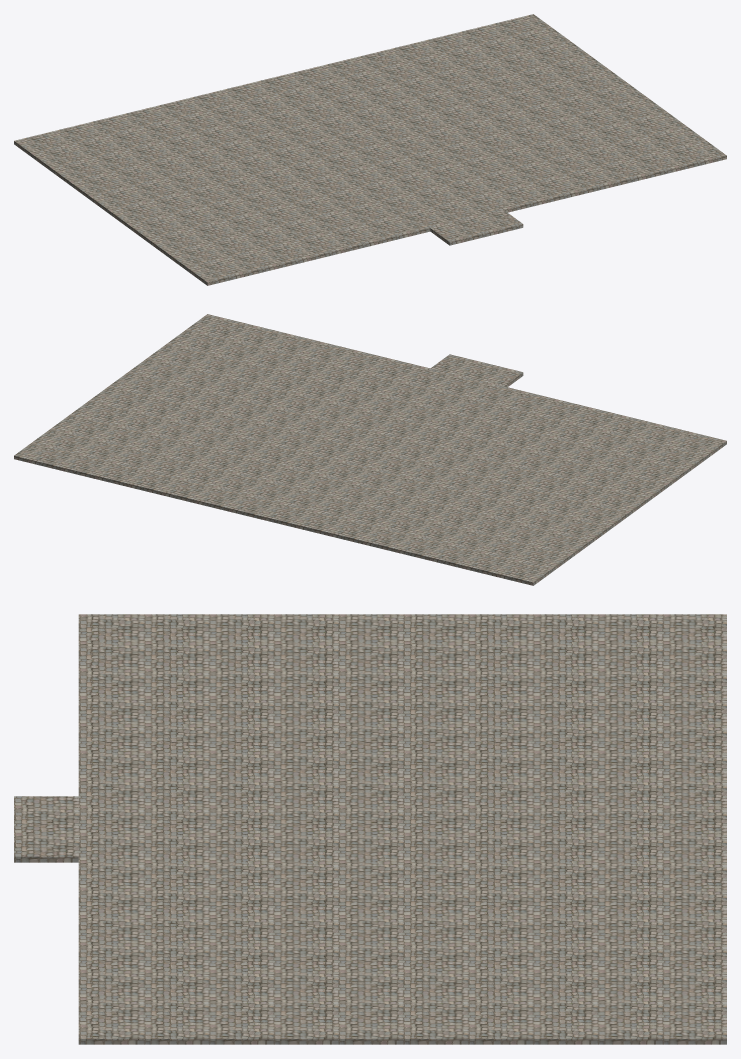
File: keep_floor.glb
The picture shows the model from 3 angles, top to bottom: view 1: azimuth 30°, elevation 25°; view 2: azimuth 150°, elevation 25°; view 3: azimuth 270°, elevation 25°; orthographic projection. The views are drawn at different scales.
Parts seen in each view (by area): view 1: keep_floor; view 2: keep_floor; view 3: keep_floor.
Boxes of the visible parts, left/top/right/bottom form: keep_floor: left=14, top=14, right=726, bottom=285; keep_floor: left=14, top=314, right=726, bottom=585; keep_floor: left=14, top=614, right=726, bottom=1044.
Size of the model in its own units: 31 by 0.2 by 22.
1 material, 1 textured.
